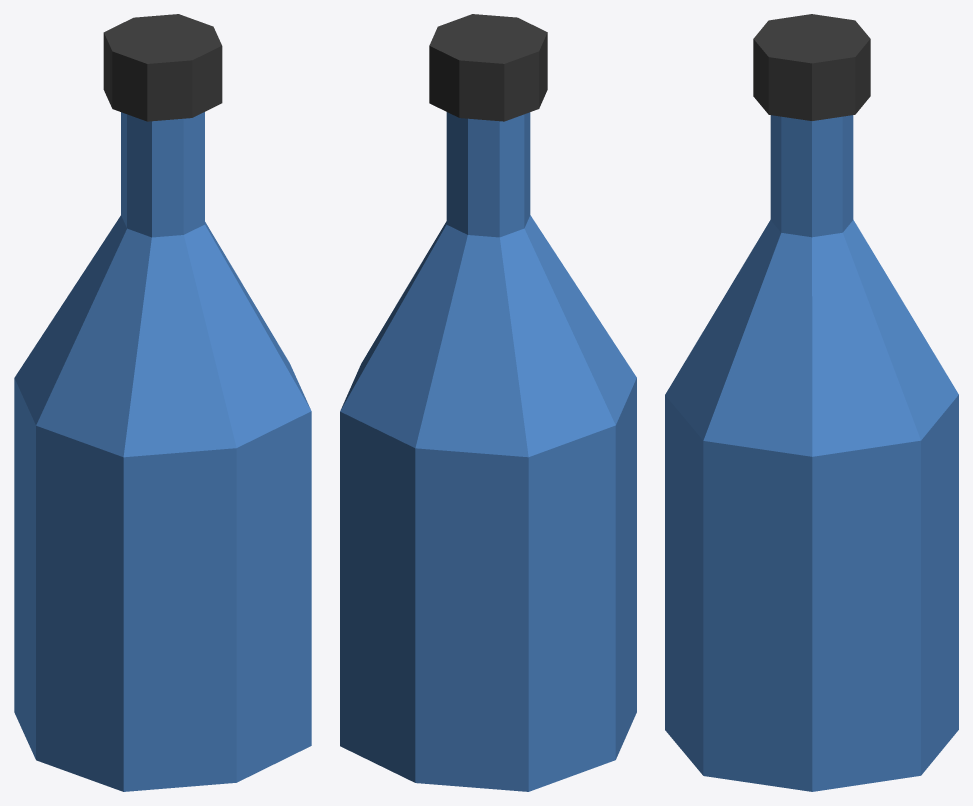
File: Bottle_1.fbx
3 views of the same model, side by side, from view 1: azimuth 30°, elevation 25°; view 2: azimuth 150°, elevation 25°; view 3: azimuth 270°, elevation 25° (orthographic).
Parts seen in each view (by area): view 1: Bottle_1; view 2: Bottle_1; view 3: Bottle_1.
Boxes of the visible parts, x1,y1,x2,y2 form: Bottle_1: [14, 14, 311, 791]; Bottle_1: [340, 14, 636, 791]; Bottle_1: [665, 14, 958, 791].
Bounding box in the file's own units: 17.01 × 17.01 × 44.12.
